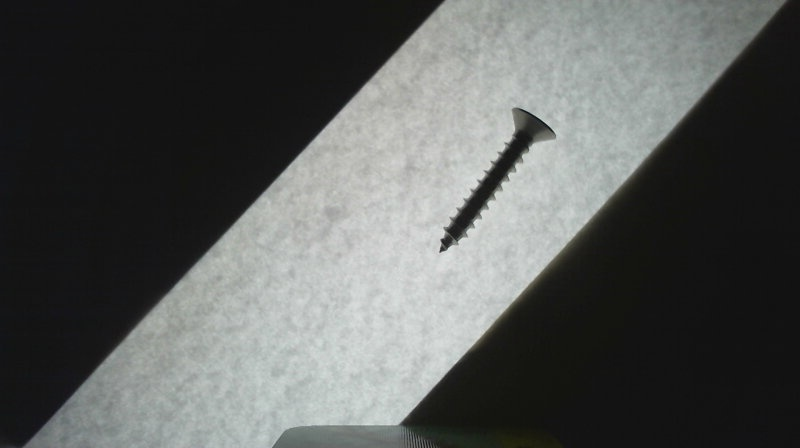S001: (432, 100, 557, 258)
